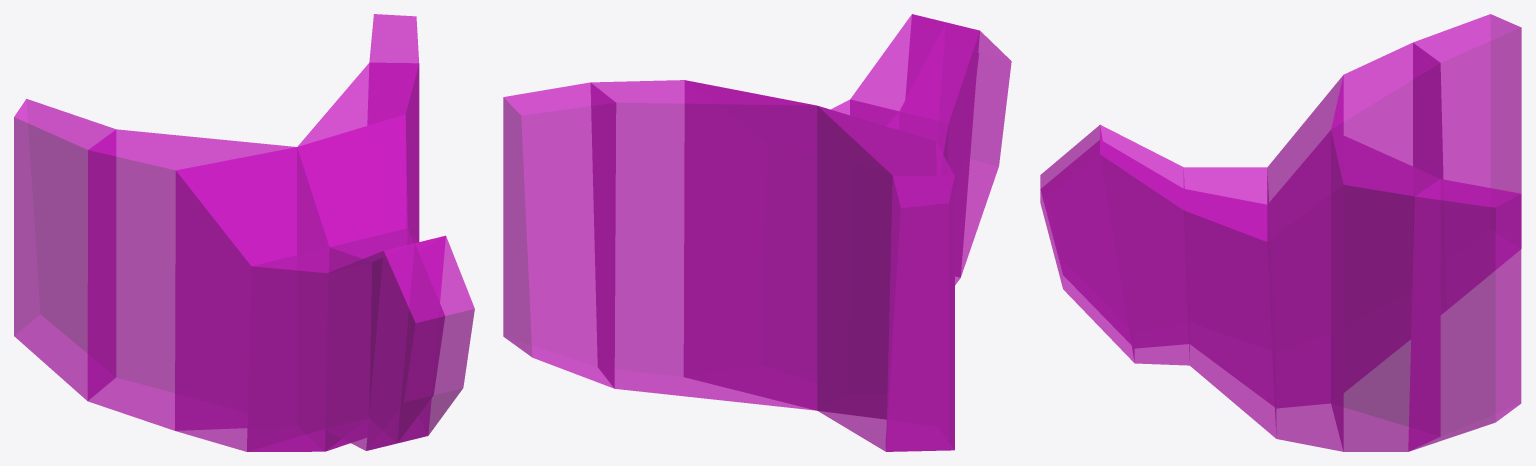
File: SM_Veh_Ship_L_Figurehead_01_Collision.fbx
The picture shows the model from 3 angles, left to right: view 1: azimuth 30°, elevation 25°; view 2: azimuth 150°, elevation 25°; view 3: azimuth 270°, elevation 25°; orthographic projection. The views are drawn at different scales.
Parts seen in each view (by area): view 1: SM_Veh_Ship_L_Figurehead_01_Collision; view 2: SM_Veh_Ship_L_Figurehead_01_Collision; view 3: SM_Veh_Ship_L_Figurehead_01_Collision.
Boxes of the visible parts, <box> form: SM_Veh_Ship_L_Figurehead_01_Collision: <box>14,14,474,451</box>; SM_Veh_Ship_L_Figurehead_01_Collision: <box>503,14,1011,451</box>; SM_Veh_Ship_L_Figurehead_01_Collision: <box>1040,14,1521,451</box>.
Size of the model in its own units: 758 by 544 by 795.
